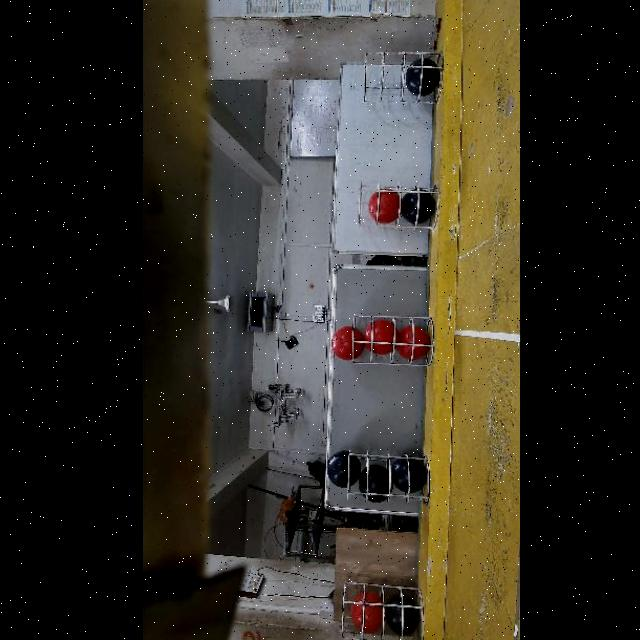P: (384, 593, 421, 637), (404, 57, 440, 97), (325, 450, 360, 488), (389, 458, 426, 493), (358, 465, 390, 503), (401, 190, 435, 224)
R: (350, 590, 382, 634), (362, 319, 398, 356), (367, 188, 399, 225), (396, 326, 429, 360), (331, 326, 363, 361)
S: (340, 580, 430, 640), (346, 315, 436, 373), (344, 456, 430, 512), (352, 181, 436, 231), (361, 51, 439, 104)
